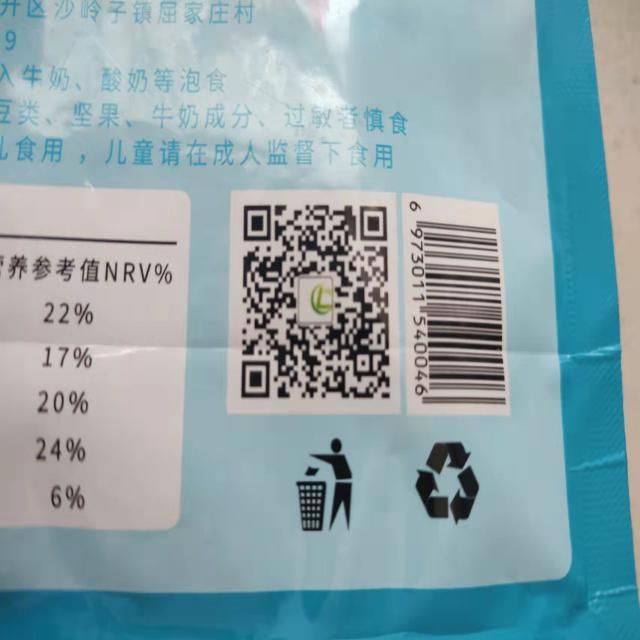qr_code: (241, 204, 396, 399)
